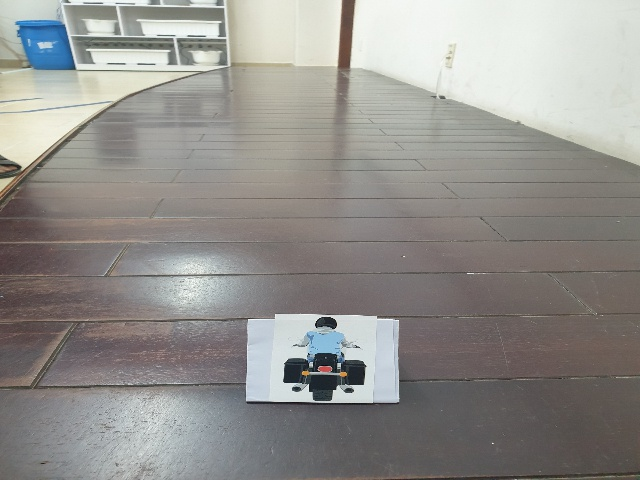Motorcycle: (278, 315, 372, 401)
